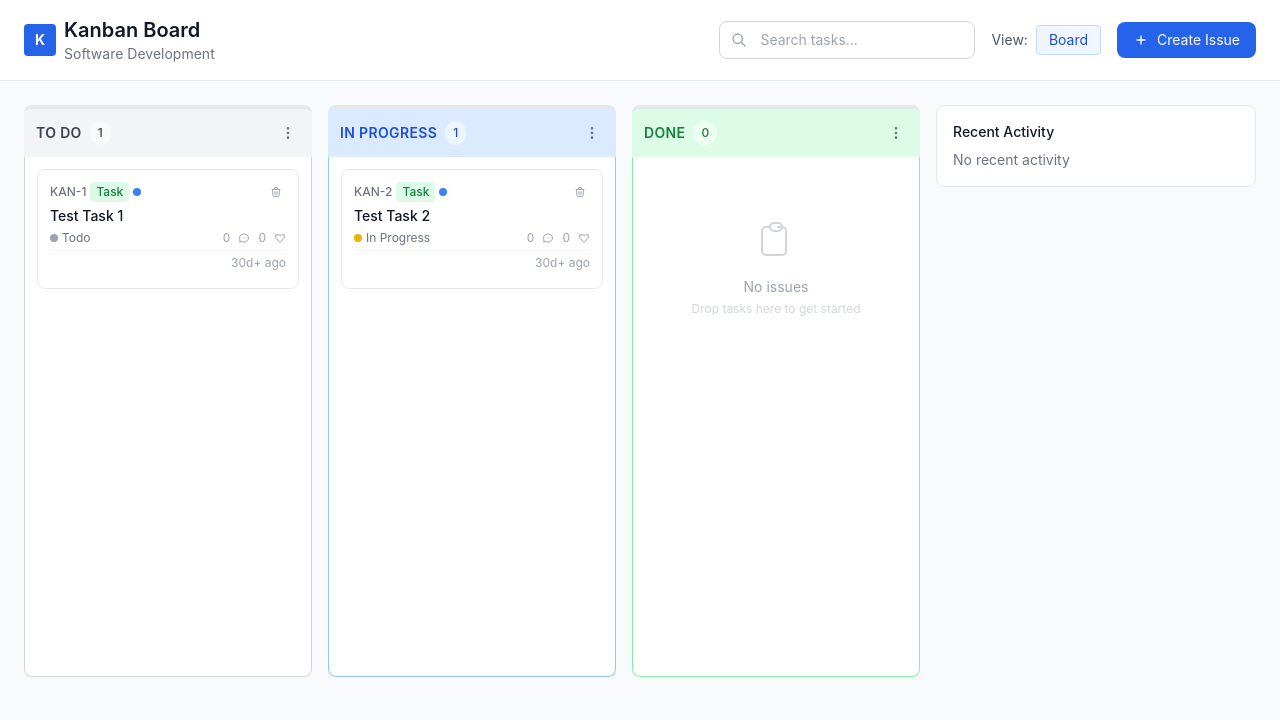
Board Component › should filter tasks by search term
Type "Test Task 1" into the field with placeholder "Search tasks...".
click(847, 40); type("Test Task 1")  # box [719,21,975,59]
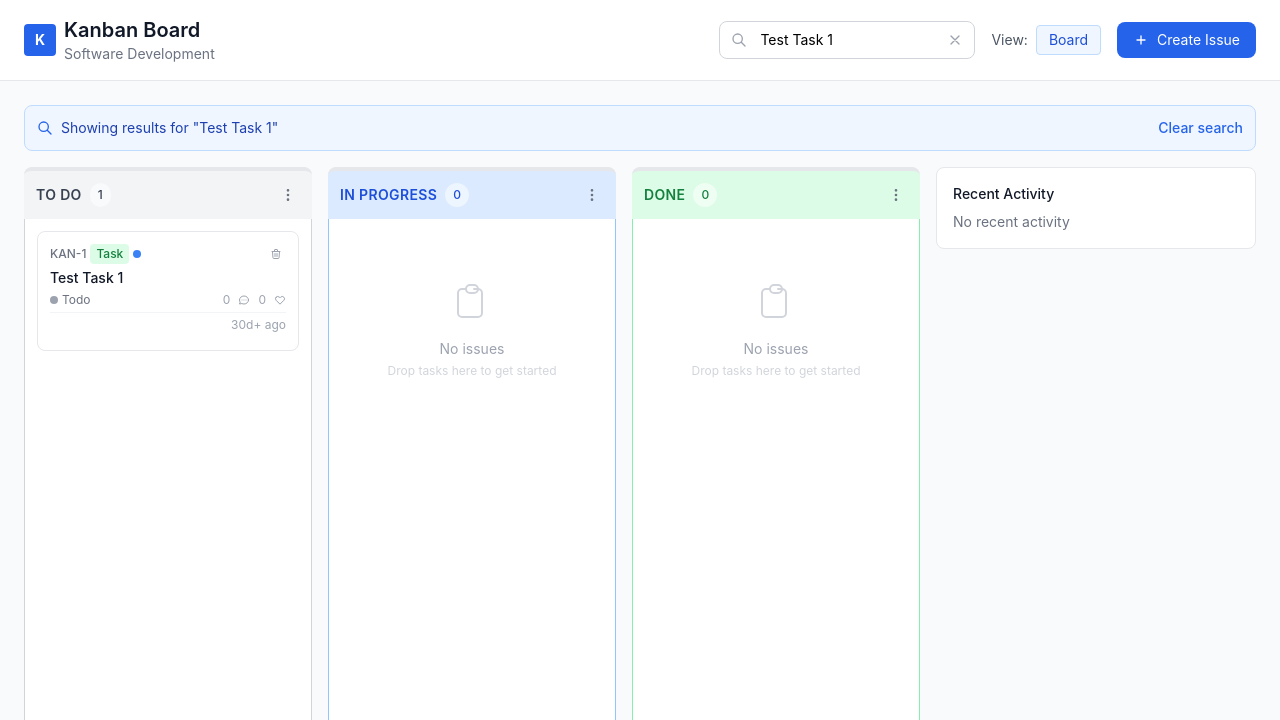
Expected: the heading "Test Task 1" is shown, [50,269,123,286]
Expected: the heading "Test Task 2" is gone
